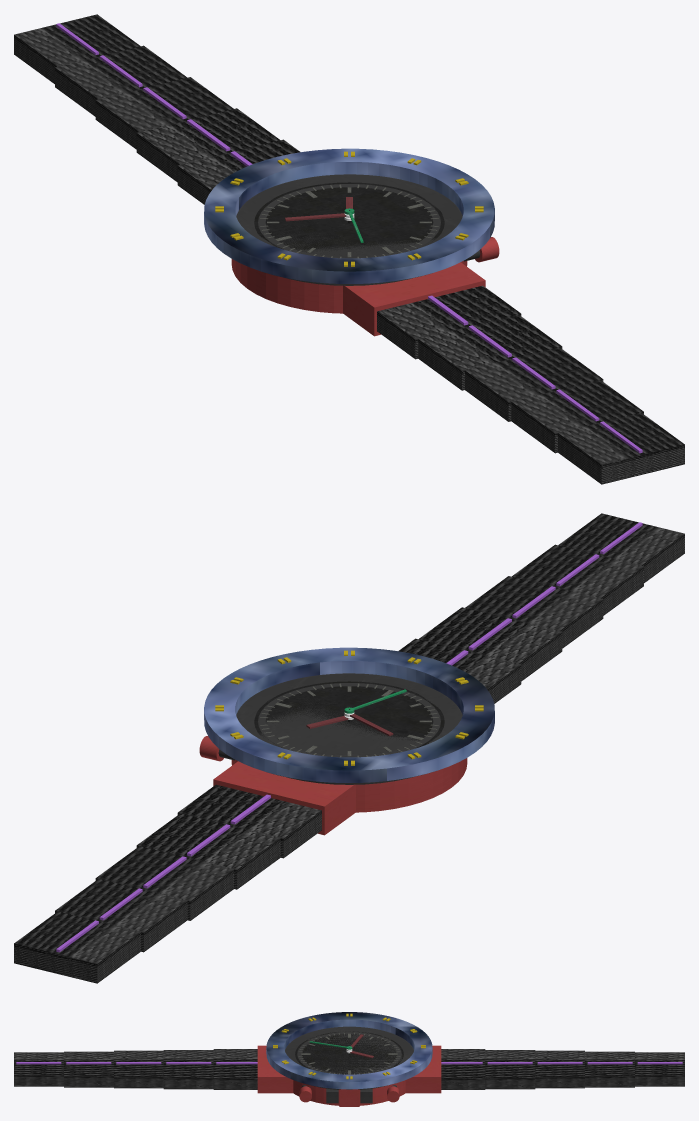
Rendered from watch__1675.glb.
The picture shows the model from 3 angles, top to bottom: view 1: azimuth 30°, elevation 25°; view 2: azimuth 150°, elevation 25°; view 3: azimuth 270°, elevation 25°; orthographic projection. The views are drawn at different scales.
Parts seen in each view (by area): view 1: bezel::bezel_ring, case::dial_disc, bottom_strap_4::strap_body, bottom_strap_1::strap_body, top_strap_1::strap_body, bottom_strap_2::strap_body, top_strap_2::strap_body, case::case_shoulder_plate, bottom_strap_0::strap_body, bottom_strap_3::strap_body, top_strap_3::strap_body, top_strap_4::strap_body (+4 smaller); view 2: bezel::bezel_ring, case::case_shoulder_plate, top_strap_4::strap_body, case::dial_disc, top_strap_1::strap_body, bottom_strap_1::strap_body, top_strap_2::strap_body, bottom_strap_2::strap_body, top_strap_0::strap_body, top_strap_3::strap_body, bottom_strap_3::strap_body, bottom_strap_4::strap_body (+4 smaller); view 3: bezel::bezel_ring, case::dial_disc, case::case_shoulder_plate, bottom_strap_1::strap_body, top_strap_1::strap_body, bottom_strap_2::strap_body, top_strap_2::strap_body, bottom_strap_0::strap_body, top_strap_0::strap_body, bottom_strap_3::strap_body, top_strap_3::strap_body, bottom_strap_4::strap_body (+11 smaller).
Boxes of the visible parts, x1,y1,x2,y2 form: bezel::bezel_ring: [204, 148, 494, 283]; case::dial_disc: [254, 182, 444, 252]; bottom_strap_4::strap_body: [558, 412, 684, 484]; bottom_strap_1::strap_body: [418, 314, 562, 390]; top_strap_1::strap_body: [136, 108, 280, 182]; bottom_strap_2::strap_body: [465, 347, 603, 421]; top_strap_2::strap_body: [95, 77, 233, 149]; case::case_shoulder_plate: [236, 174, 462, 285]; bottom_strap_0::strap_body: [377, 285, 521, 359]; bottom_strap_3::strap_body: [511, 380, 643, 453]; top_strap_3::strap_body: [55, 45, 186, 116]; top_strap_4::strap_body: [14, 14, 140, 83]; bezel::bezel_ring: [204, 647, 494, 782]; case::case_shoulder_plate: [236, 673, 462, 784]; top_strap_4::strap_body: [14, 911, 140, 983]; case::dial_disc: [254, 681, 444, 748]; top_strap_1::strap_body: [136, 813, 280, 889]; bottom_strap_1::strap_body: [418, 607, 562, 681]; top_strap_2::strap_body: [95, 846, 233, 920]; bottom_strap_2::strap_body: [465, 576, 603, 648]; top_strap_0::strap_body: [177, 784, 321, 858]; top_strap_3::strap_body: [55, 879, 187, 952]; bottom_strap_3::strap_body: [512, 544, 643, 615]; bottom_strap_4::strap_body: [558, 513, 684, 582]; bezel::bezel_ring: [266, 1012, 432, 1089]; case::dial_disc: [295, 1031, 403, 1074]; case::case_shoulder_plate: [285, 1027, 413, 1089]; bottom_strap_1::strap_body: [163, 1050, 213, 1089]; top_strap_1::strap_body: [485, 1050, 535, 1089]; bottom_strap_2::strap_body: [114, 1050, 163, 1088]; top_strap_2::strap_body: [535, 1050, 584, 1088]; bottom_strap_0::strap_body: [213, 1049, 257, 1089]; top_strap_0::strap_body: [441, 1049, 485, 1089]; bottom_strap_3::strap_body: [64, 1051, 113, 1087]; top_strap_3::strap_body: [585, 1051, 634, 1087]; bottom_strap_4::strap_body: [14, 1052, 63, 1086].
Bounding box in the file's own units: 0.0665 × 0.014 × 0.2688.
11 materials, 11 textured.
